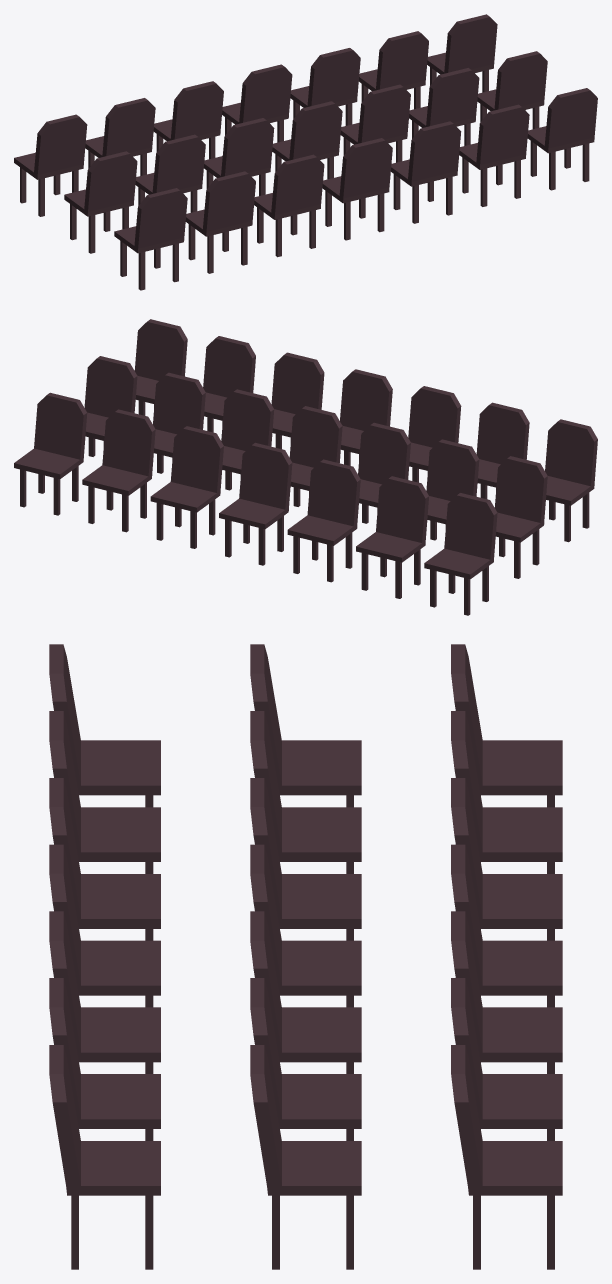
The model's file is Chairs.fbx.
3 renders of one model, top to bottom at view 1: azimuth 30°, elevation 25°; view 2: azimuth 150°, elevation 25°; view 3: azimuth 270°, elevation 25°, orthographic. The views are drawn at different scales.
Visible parts, largest first — view 1: chairs; view 2: chairs; view 3: chairs.
Boxes of the visible parts, x1=… form: chairs: x1=14, y1=14, x2=597, y2=290; chairs: x1=14, y1=319, x2=597, y2=615; chairs: x1=49, y1=644, x2=562, y2=1269.
Bounding box in the file's own units: 671 × 135 × 327.
